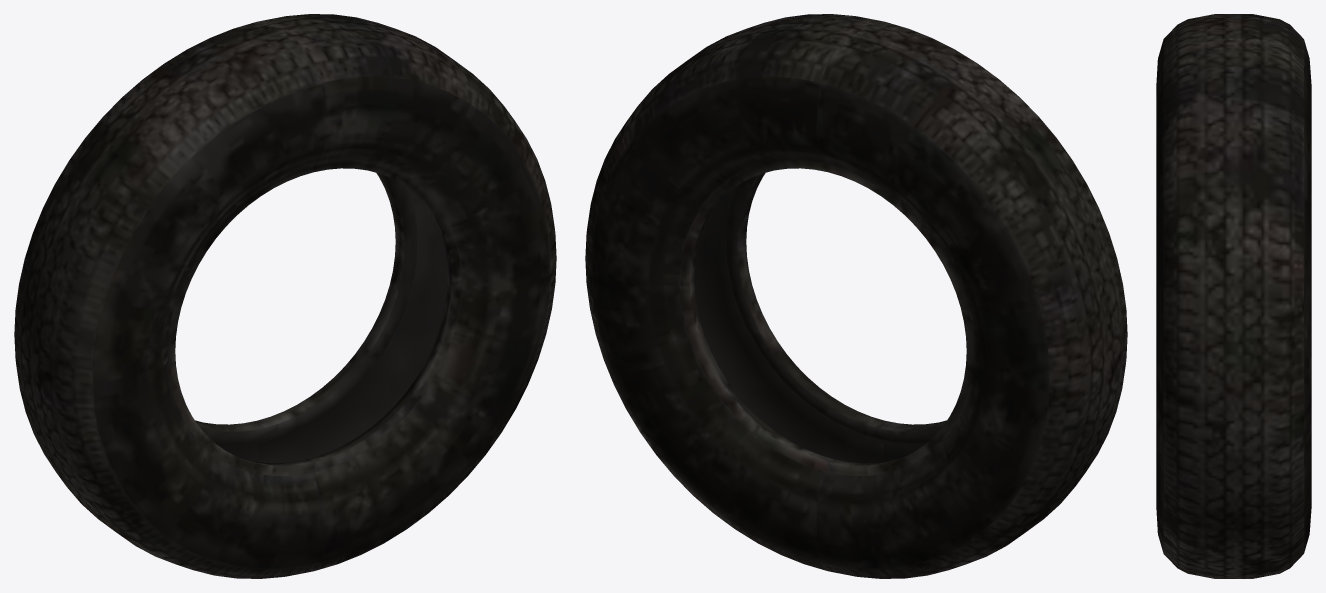
The model's file is old_tyre.glb.
The picture shows the model from 3 angles, left to right: view 1: azimuth 30°, elevation 25°; view 2: azimuth 150°, elevation 25°; view 3: azimuth 270°, elevation 25°; orthographic projection. The views are drawn at different scales.
Parts seen in each view (by area): view 1: old_tyre; view 2: old_tyre; view 3: old_tyre.
Part boxes in pixels (x1,y1,x2,y2): old_tyre: (14,14,556,578); old_tyre: (585,14,1127,578); old_tyre: (1156,14,1311,578).
Size of the model in its own units: 0.6 by 0.6 by 0.165.
1 material, 1 textured.
